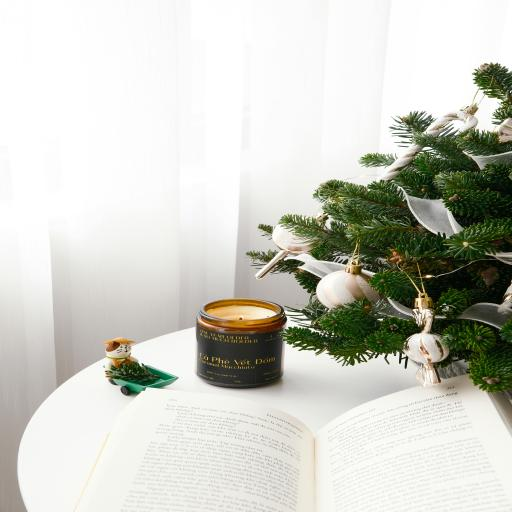candlelight: (162, 288, 306, 398)
